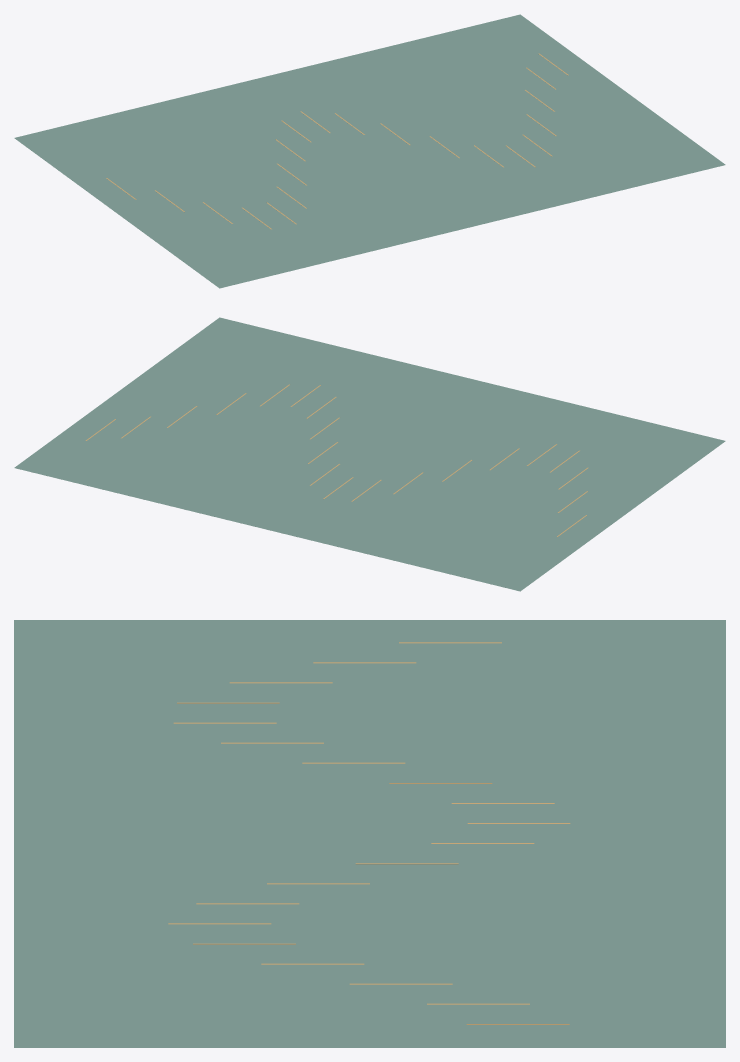
Rendered from 257_L118_L20_LayerReference.glb.
The picture shows the model from 3 angles, top to bottom: view 1: azimuth 30°, elevation 25°; view 2: azimuth 150°, elevation 25°; view 3: azimuth 270°, elevation 25°; orthographic projection. The views are drawn at different scales.
Parts seen in each view (by area): view 1: 0000__PSMAT__dielectric; view 2: 0000__PSMAT__dielectric; view 3: 0000__PSMAT__dielectric.
Part boxes in pixels (bbox=[...]): 0000__PSMAT__dielectric: bbox=[14, 14, 725, 288]; 0000__PSMAT__dielectric: bbox=[14, 317, 725, 591]; 0000__PSMAT__dielectric: bbox=[14, 620, 725, 1047].
Size of the model in its own units: 0.472 by 0.000469 by 0.332.
